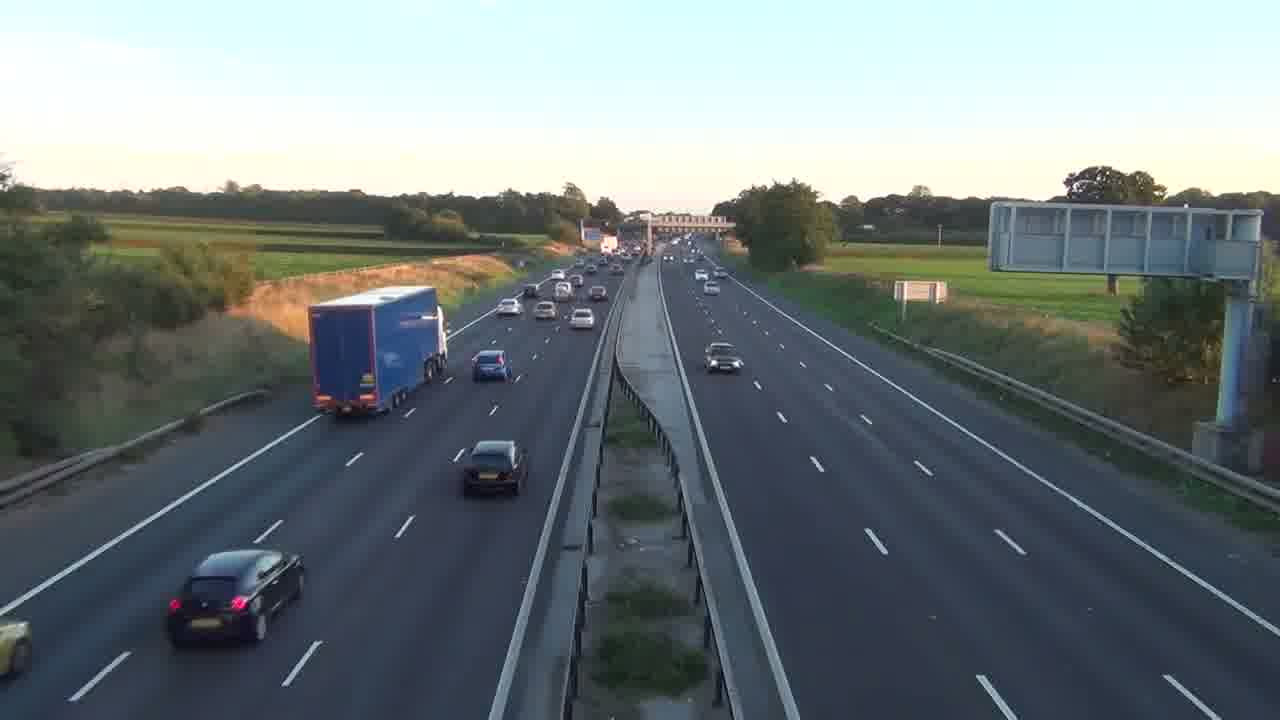car: (164, 546, 307, 648), (457, 439, 530, 497), (471, 348, 512, 383), (703, 341, 744, 374), (569, 306, 595, 330), (495, 296, 523, 317), (588, 284, 607, 301)
truck: (307, 284, 447, 419)
